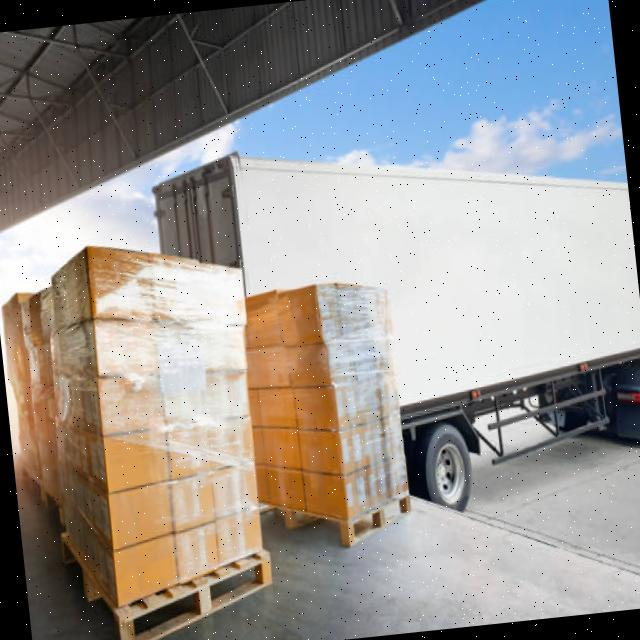Wooden-Pallets: (122, 548, 276, 640), (337, 477, 421, 557)
